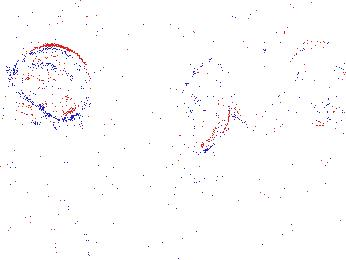moon jellyfish: (214, 34, 297, 135), (169, 56, 233, 152), (13, 45, 91, 118), (60, 47, 133, 117), (281, 41, 335, 126), (1, 69, 43, 122)
